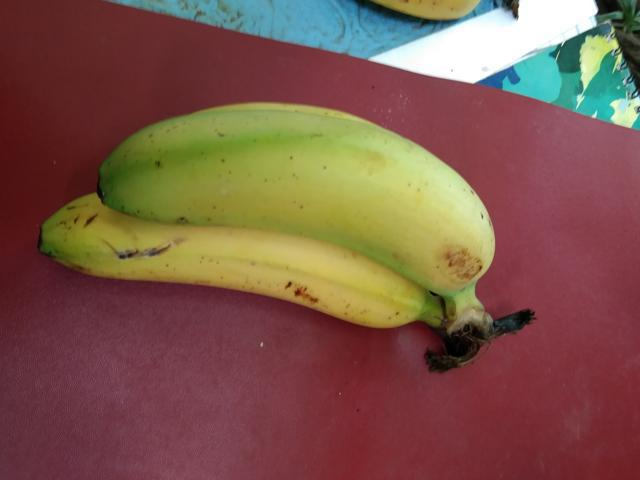freshripe: (86, 94, 497, 283)
ripe: (30, 186, 430, 343)
